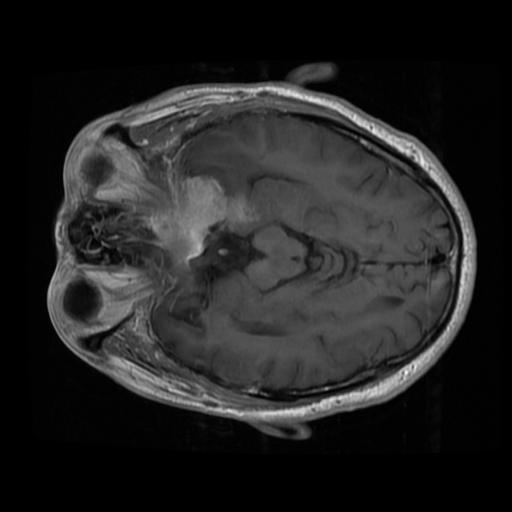meningioma: (146, 175, 250, 265)
